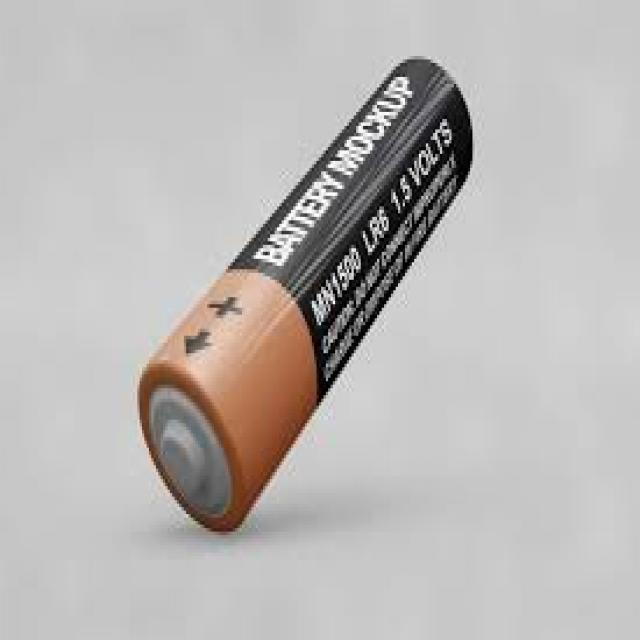battery: (138, 58, 473, 535)
